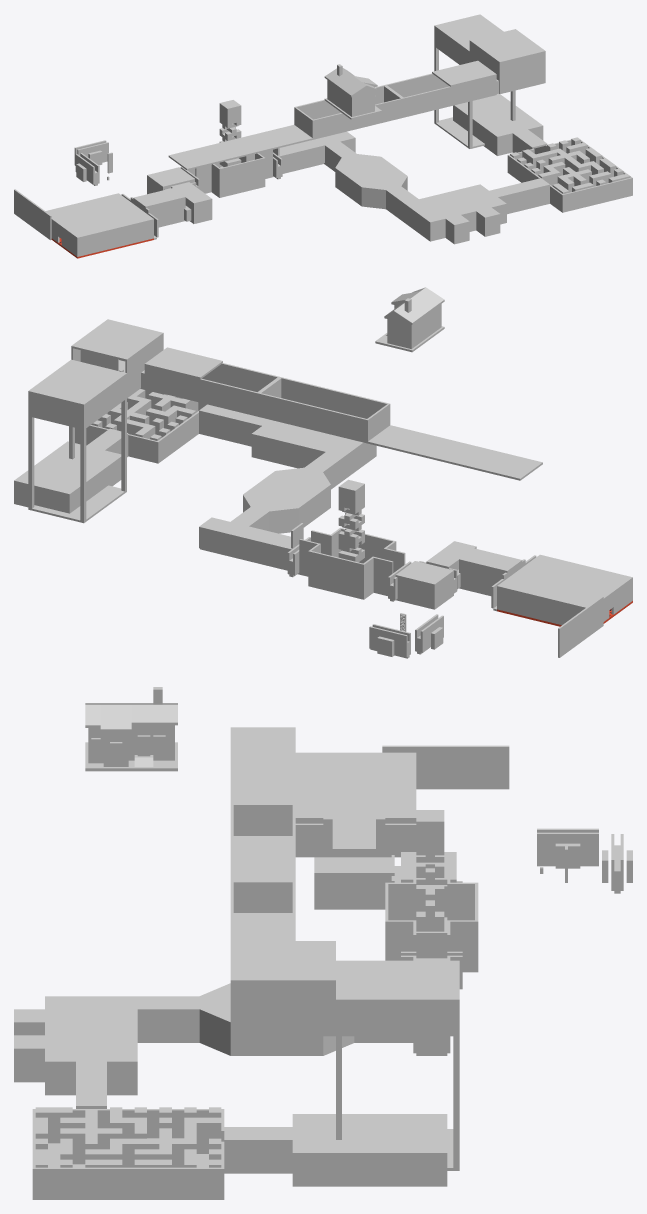
3 renders of one model, top to bottom at view 1: azimuth 30°, elevation 25°; view 2: azimuth 150°, elevation 25°; view 3: azimuth 270°, elevation 25°, orthographic. The views are drawn at different scales.
Visible parts, largest first — view 1: Cube.2174, Cube.533, Cube.2175, Cube.2066, Cube.2071, Cube.2159, Cube.2176, Cube.1918, Cube.528, Cube.2158, Cube.2116, Cube.2044 (+26 smaller); view 2: Cube.2174, Cube.533, Cube.2176, Cube.2175, Cube.2071, Cube.2116, Cube.2159, Cube.2066, Cube.1917, Cube.526, Cube.2154, Cube.2173 (+35 smaller); view 3: Cube.533, Cube.2174, Cube.2071, Cube.2066, Cube.2029, Cube.2157, Cube.2116, Cube.2154, Cube.2159, Cube.2030, Cube.2107, Cube.1880 (+34 smaller).
Boxes of the visible parts, <box> form: Cube.2174: <box>168,104,450,170</box>; Cube.533: <box>45,193,153,239</box>; Cube.2175: <box>312,86,450,137</box>; Cube.2066: <box>403,184,506,223</box>; Cube.2071: <box>453,93,543,138</box>; Cube.2159: <box>469,29,545,63</box>; Cube.2176: <box>294,73,432,124</box>; Cube.1918: <box>218,157,265,196</box>; Cube.528: <box>79,221,152,256</box>; Cube.2158: <box>501,53,544,92</box>; Cube.2116: <box>434,14,503,52</box>; Cube.2044: <box>561,178,631,211</box>; Cube.2174: <box>200,401,542,480</box>; Cube.533: <box>497,554,632,608</box>; Cube.2176: <box>200,378,368,441</box>; Cube.2175: <box>222,363,390,425</box>; Cube.2071: <box>14,441,121,495</box>; Cube.2116: <box>28,359,126,406</box>; Cube.2159: <box>71,319,163,361</box>; Cube.2066: <box>251,420,364,457</box>; Cube.1917: <box>308,550,364,597</box>; Cube.526: <box>499,588,583,624</box>; Cube.2154: <box>558,596,603,657</box>; Cube.2173: <box>144,347,222,379</box>; Cube.533: <box>295,752,416,820</box>; Cube.2174: <box>230,727,295,918</box>; Cube.2071: <box>292,1114,447,1155</box>; Cube.2066: <box>45,996,137,1064</box>; Cube.2029: <box>32,1167,224,1196</box>; Cube.2157: <box>230,983,335,1033</box>; Cube.2116: <box>336,960,459,1002</box>; Cube.2154: <box>382,745,509,789</box>; Cube.2159: <box>230,941,335,982</box>; Cube.2030: <box>295,1156,447,1183</box>; Cube.2107: <box>336,1002,459,1033</box>; Cube.1880: <box>314,876,391,906</box>.
Size of the model in its own units: 315 by 104 by 200.
Materials: 2 (2 with a texture image).
